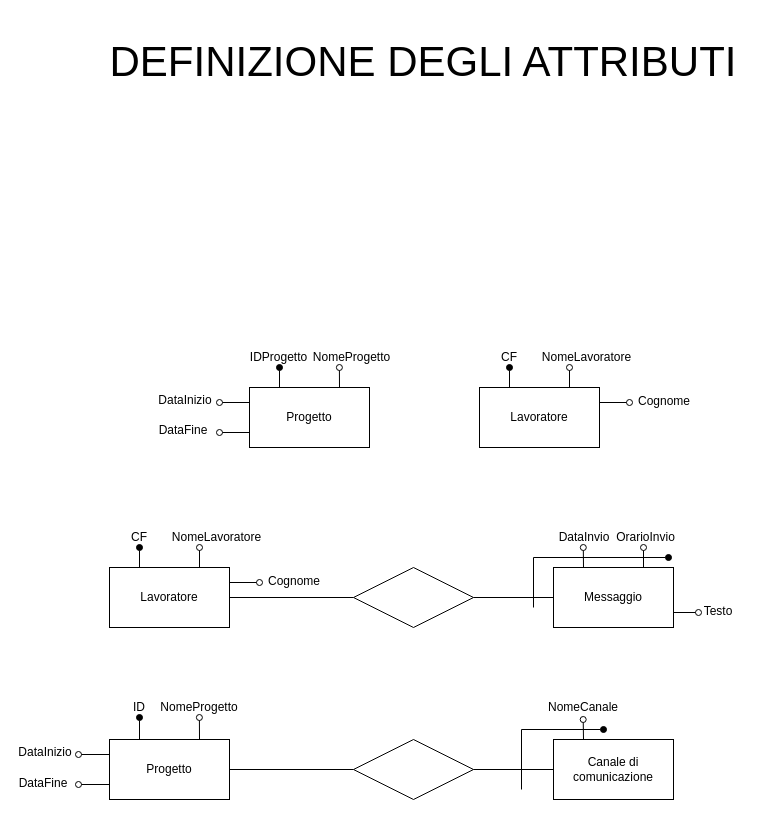
Some shapes in this 775 by 817 pixel diagram are drawn without their labels. The shapes that lost their labels are listed below. From the top down, each one's centre as x and y in pixels, then its label:
the point at 413,597: Scrittura
the point at 413,769: Riferimento
